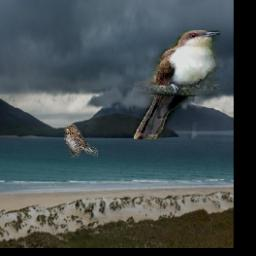Cuckoo: (135, 30, 221, 139)
Sparrow: (63, 125, 98, 158)
